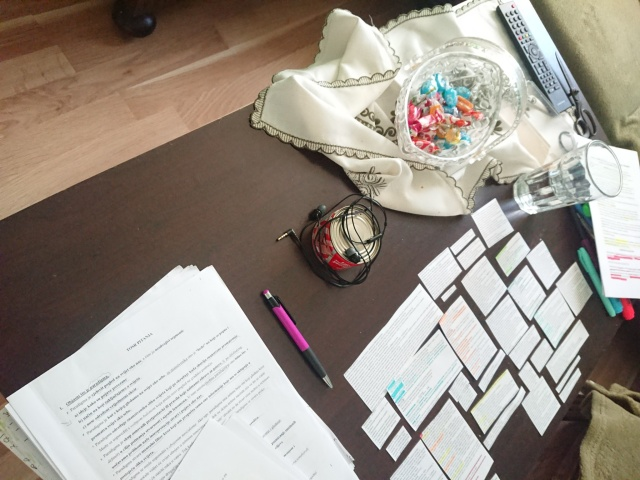Podravka Luncheon Meat 150g: (309, 202, 383, 273)
